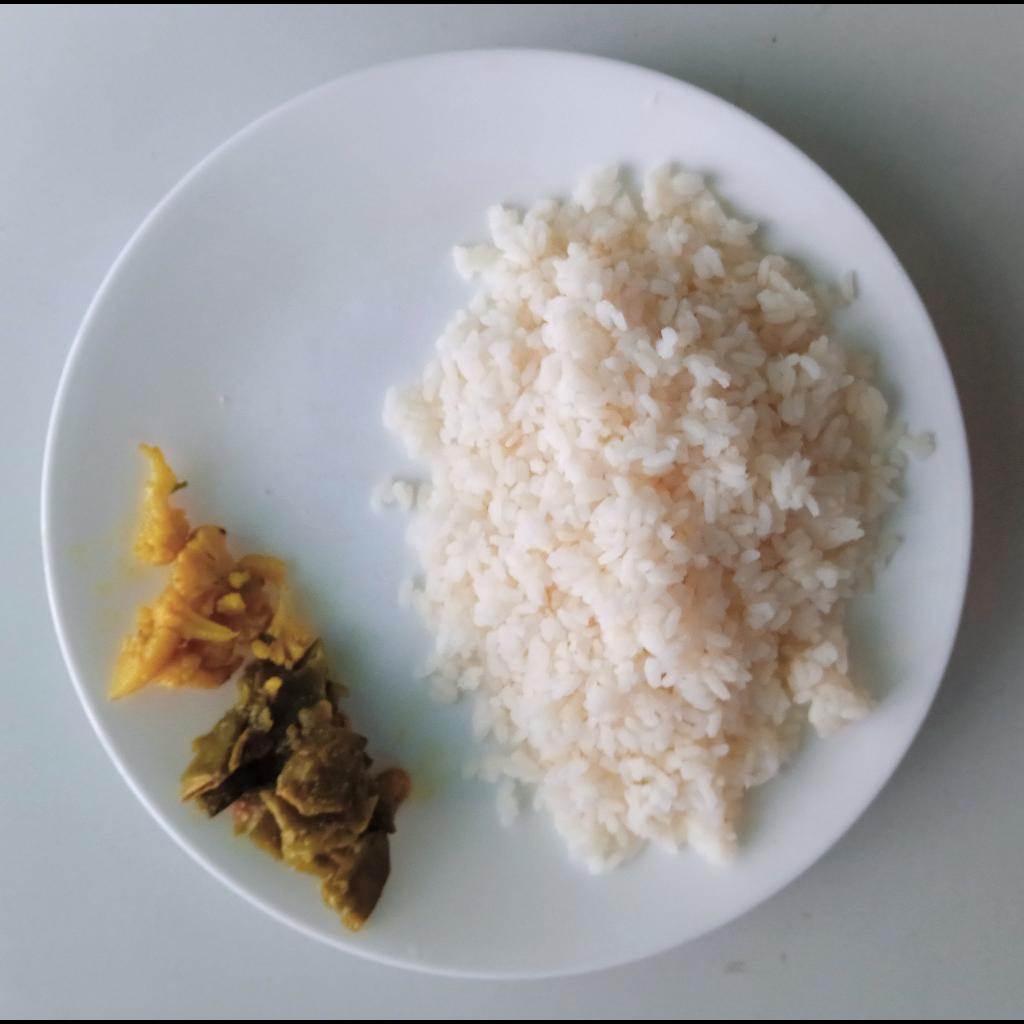cauliflower: (113, 437, 310, 701)
rice: (370, 163, 930, 873)
shim: (182, 639, 410, 936)
